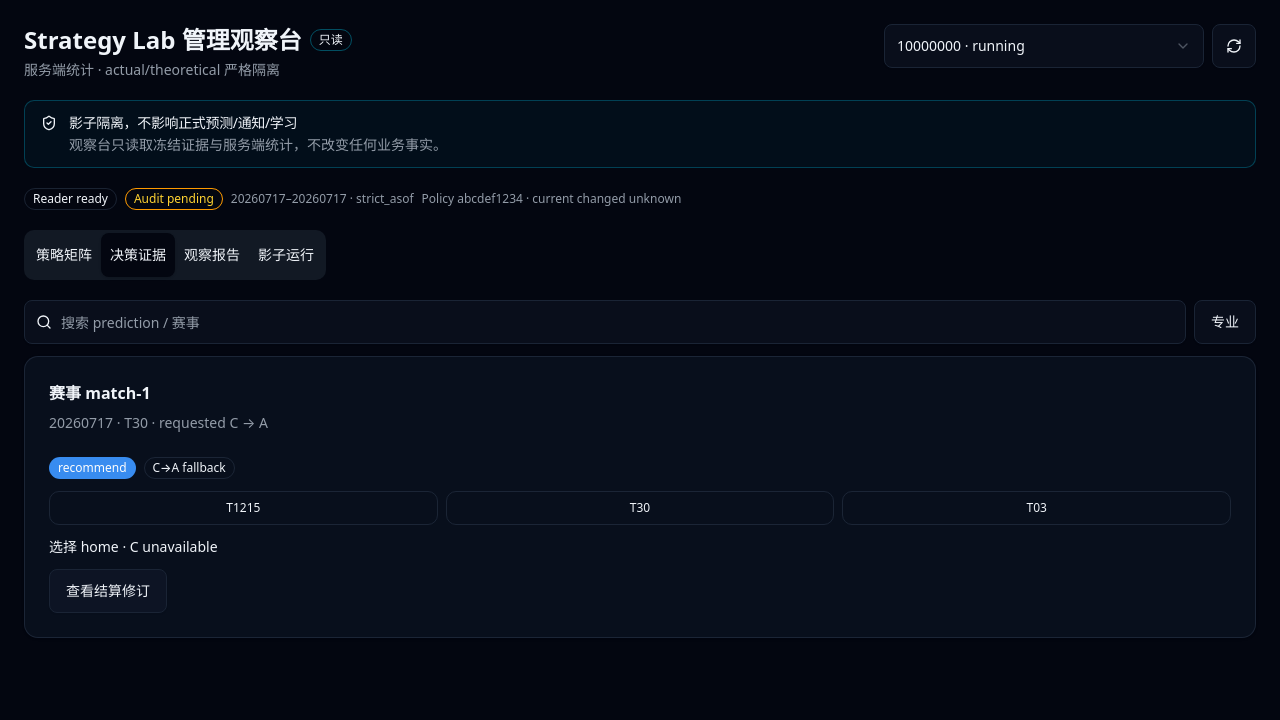
Test: Strategy Lab read-only admin view › renders audit pending, server report and readonly chain integrity timeline
Press the mouse on the button "专业" at (1225, 322), box [1194,300,1256,344]
Click the button "专业" at (1225, 322), box [1194,300,1256,344]
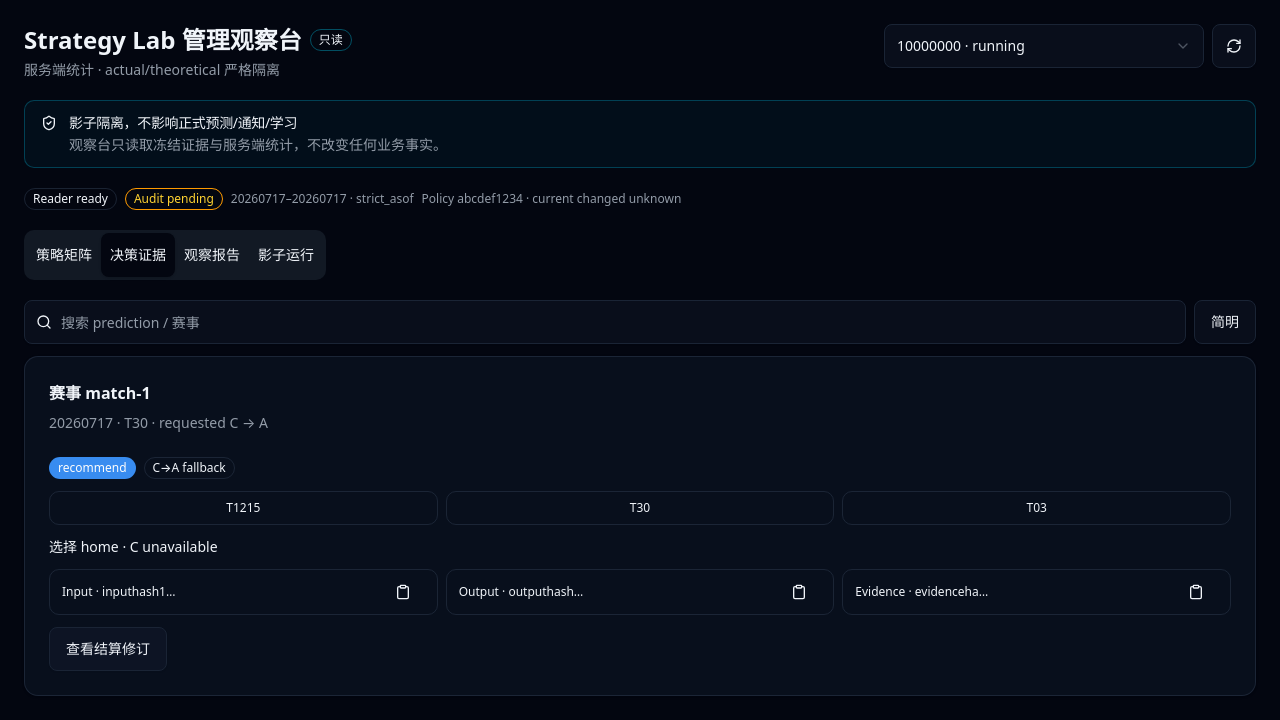
Check: the text "Input · inputhash1" is shown, box [62,584,175,600]
Click the button named "复制Input完整值" at (403, 592), box [381,570,425,614]
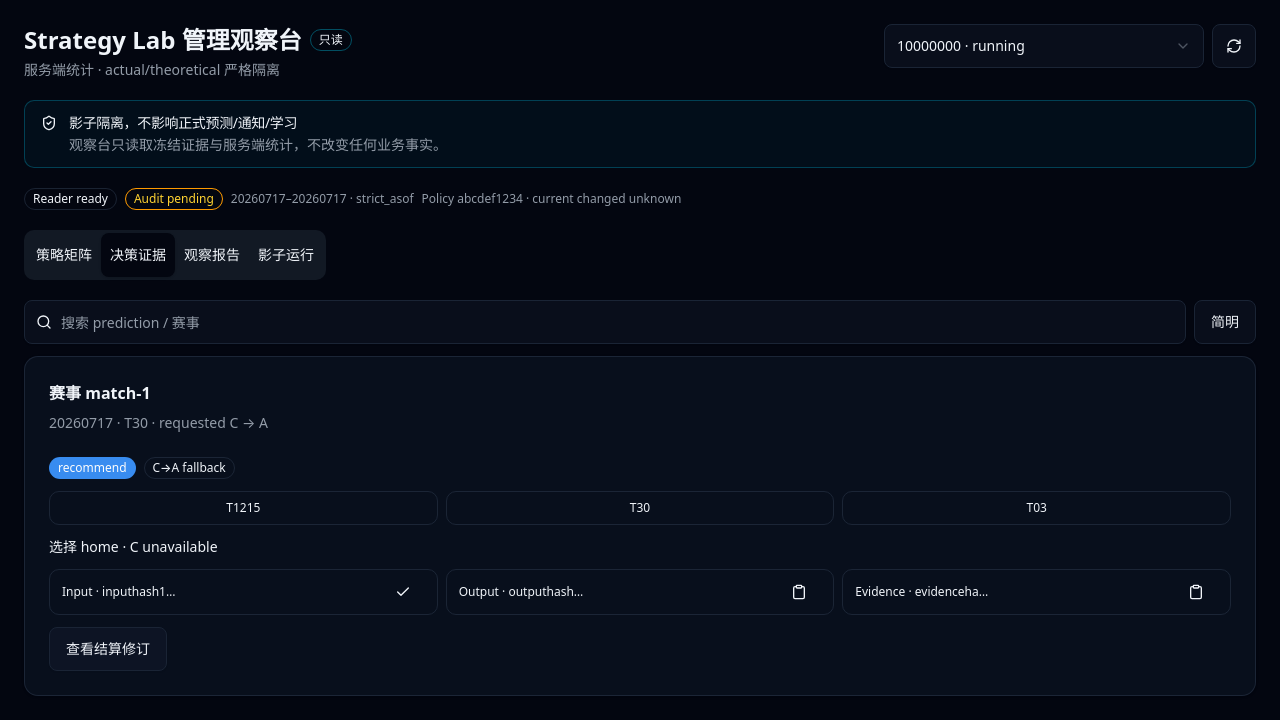
Press the mouse on the button "查看结算修订" at (108, 649), box [49,627,167,671]
Click the button "查看结算修订" at (108, 649), box [49,627,167,671]
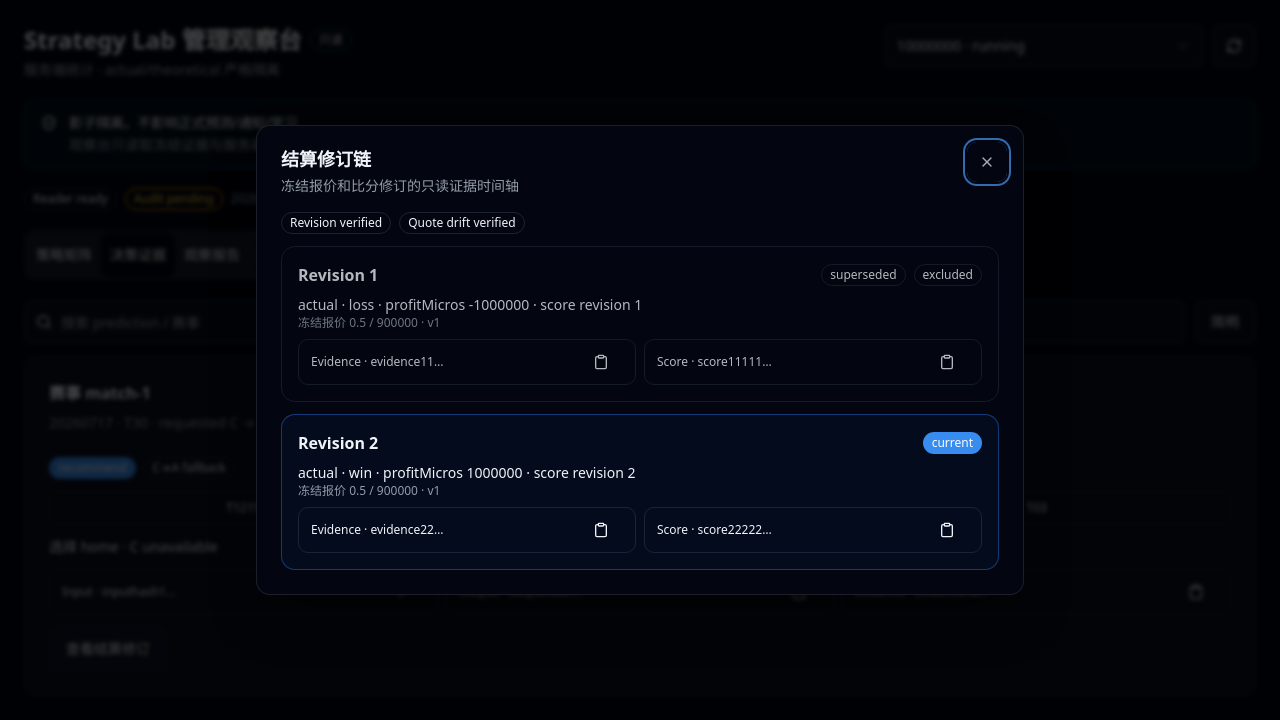
Check: the text "结算修订链" is shown, box [281,147,371,171]
Check: the text "Revision verified" is shown, box [281,212,391,234]
Check: the text "superseded" is shown, box [821,264,906,286]
